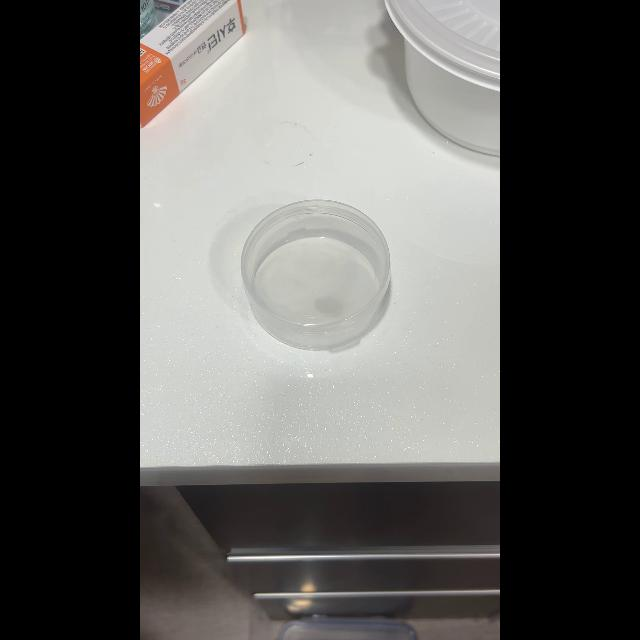clean: (242, 196, 396, 350)
